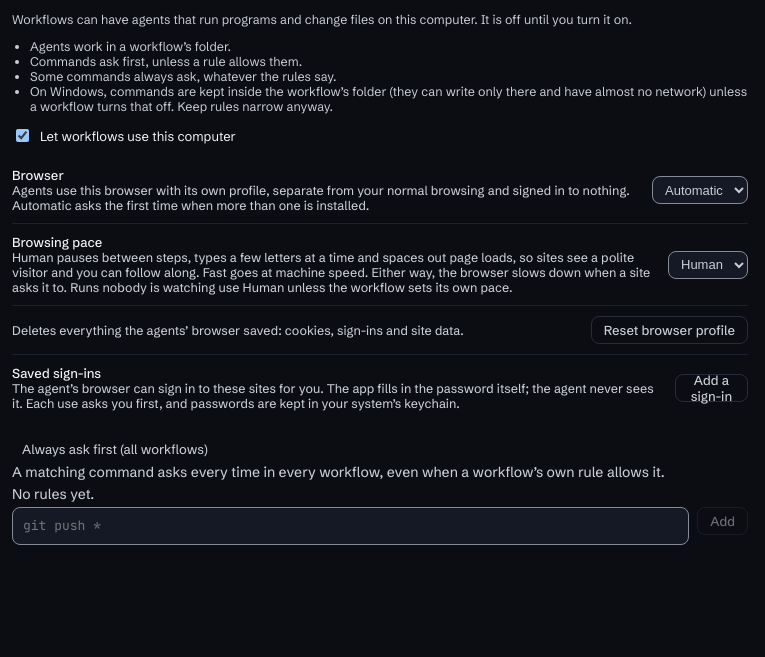
it: ComputerSection › browser › shows the translated error when the profile is in use
Step 1. Click the button "Reset browser profile" → x=669, y=330, box [591, 316, 748, 344]
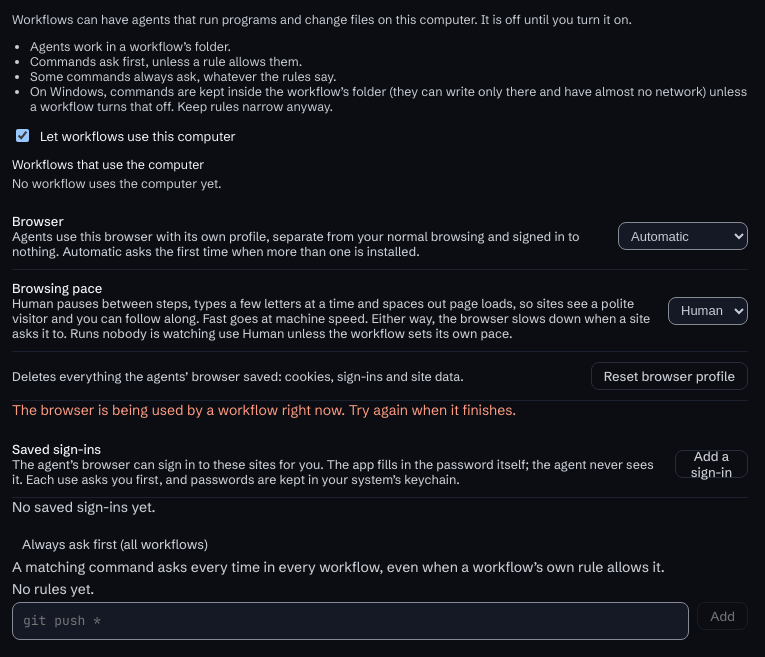
Check: the text "The browser is being used by a workflow right now. Try again when it finishes." is shown, box [12, 401, 516, 419]
